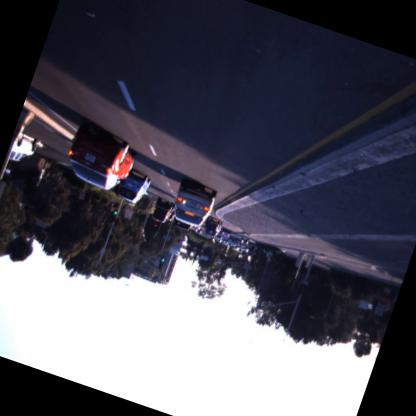trafficlight: (155, 255, 168, 273), (108, 208, 120, 224)
